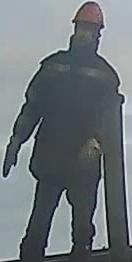gloves: (0, 130, 25, 179), (76, 132, 108, 166)
helmet: (70, 0, 106, 29)
vest: (23, 49, 121, 188)
